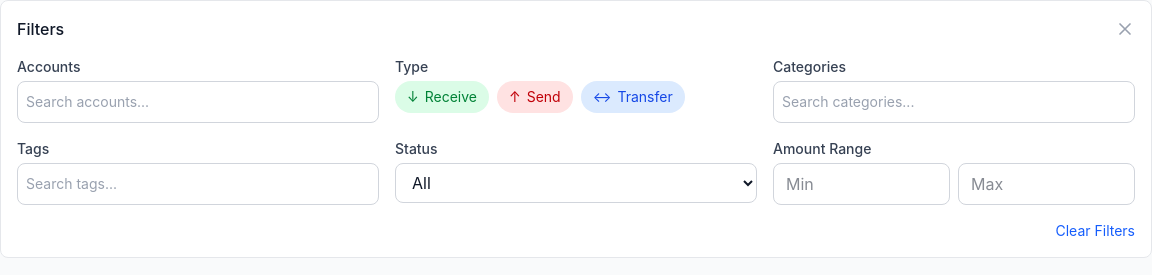
Scenario: FilterPanel › search filtering › should filter and show matching categories
This screenshot has width=1152, height=275.
In the field with placeholder "Search categories...": (954, 102) top-left (782, 92), bottom-right (1126, 112), type "restaurant"
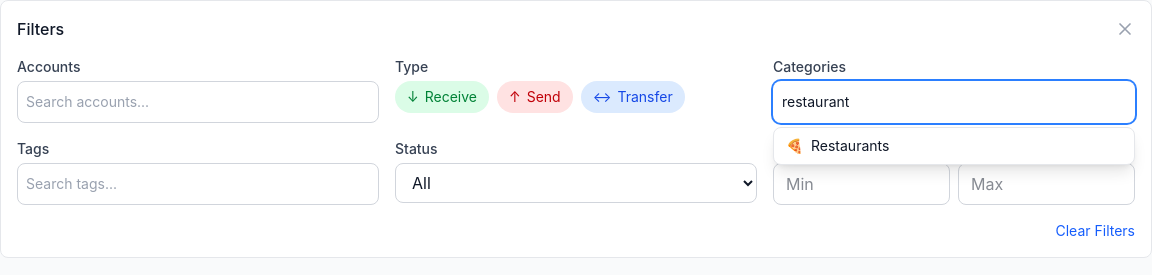
Expected: the text "Restaurants" is shown, top-left (811, 137), bottom-right (889, 154)
